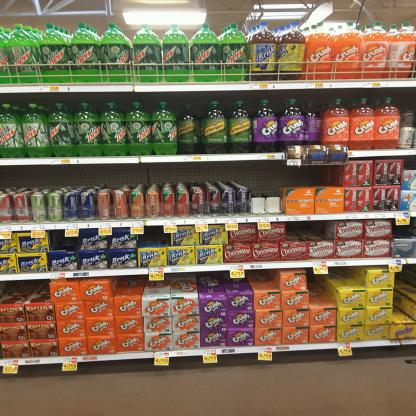Void: (6, 168, 238, 182), (112, 279, 276, 292), (252, 161, 279, 214), (290, 170, 340, 188), (286, 224, 335, 240), (1, 284, 45, 300), (313, 275, 332, 309), (399, 271, 409, 321), (343, 267, 366, 287), (141, 231, 170, 242), (56, 237, 77, 252), (395, 226, 410, 236), (402, 158, 414, 166)
